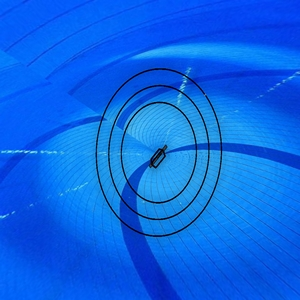circle: (93, 66, 230, 240)
submarine: (146, 144, 175, 172)
